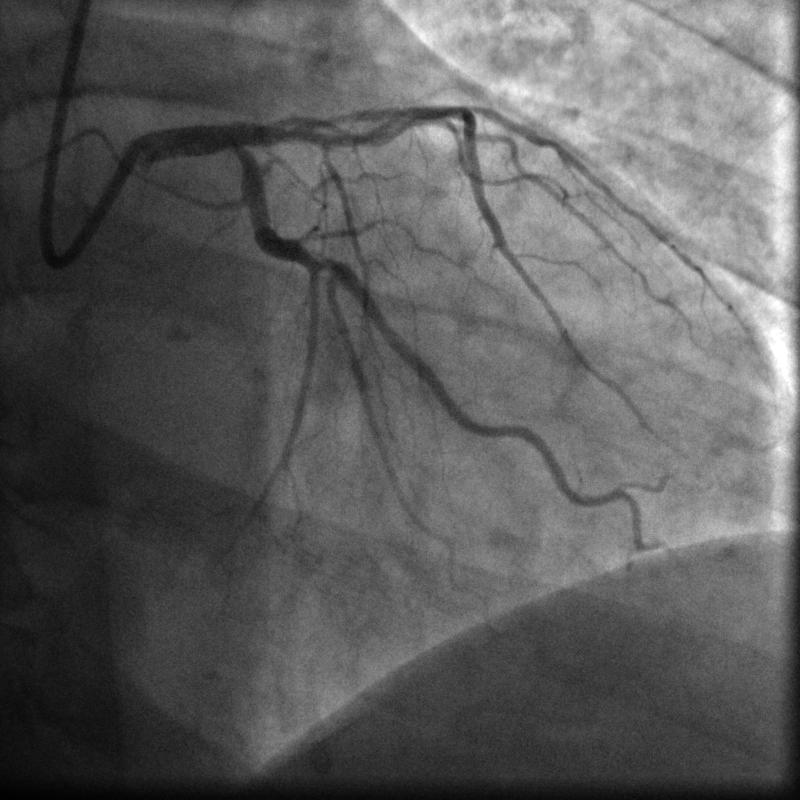Stenosis: (312, 252, 338, 278)
